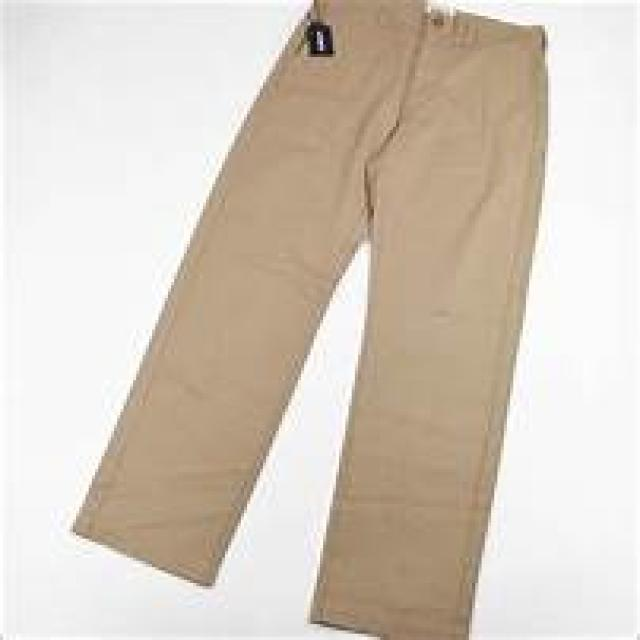long-pants: (77, 0, 548, 640)
